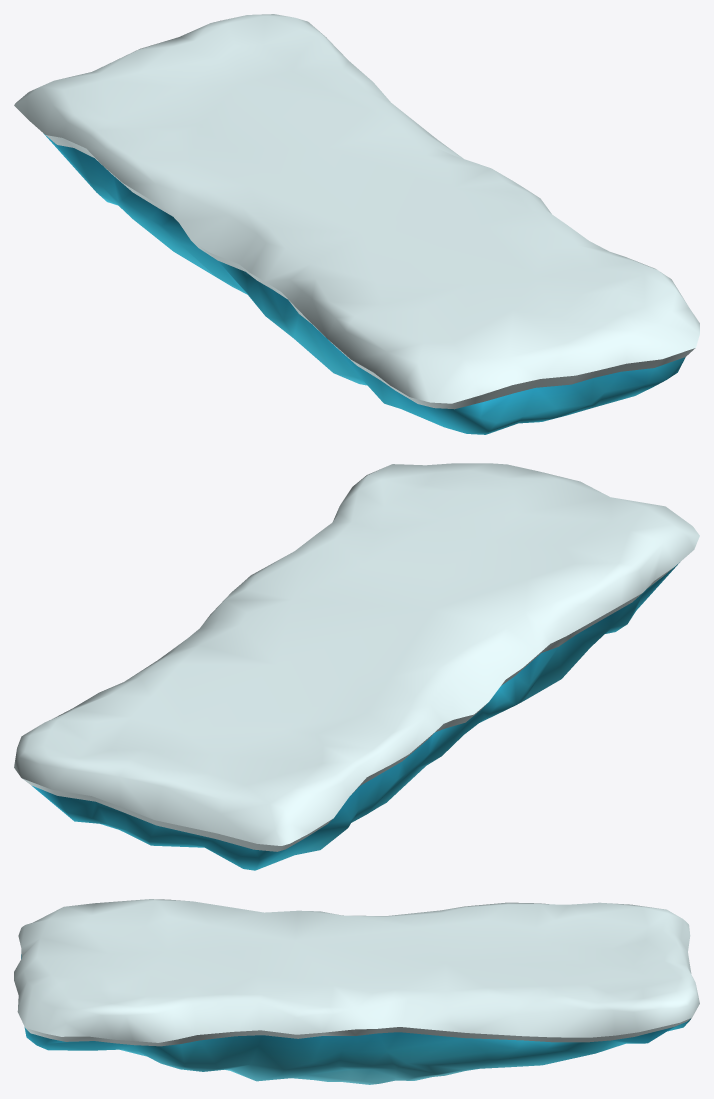
The model's file is iceberg_003.fbx.
The picture shows the model from 3 angles, top to bottom: view 1: azimuth 30°, elevation 25°; view 2: azimuth 150°, elevation 25°; view 3: azimuth 270°, elevation 25°; orthographic projection. The views are drawn at different scales.
Parts seen in each view (by area): view 1: iceberg_003; view 2: iceberg_003; view 3: iceberg_003.
Part boxes in pixels (left/top/right/bottom): iceberg_003: left=14, top=14, right=699, bottom=434; iceberg_003: left=14, top=463, right=699, bottom=870; iceberg_003: left=14, top=899, right=699, bottom=1084.
Bounding box in the file's own units: 1208 × 3016 × 582.
